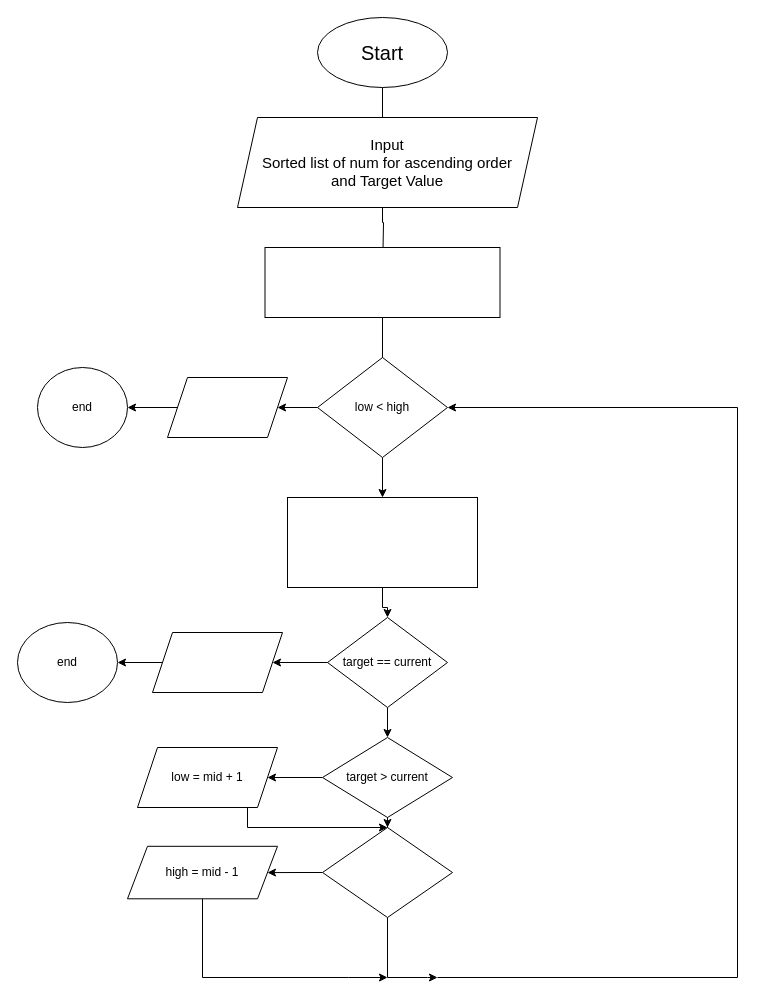
Some shapes in this 763 by 1003 pixel diagram are drawn without their labels. Here are the shapes that lost their labels. From the top down, the box of each, then its label:
(264, 246, 500, 318): low = 0, high = len(sortedList) - 1
(166, 376, 288, 438): output -1
(286, 496, 478, 588): mid = (low + high) // 2 current = list[mid]
(152, 632, 282, 692): output mid
(322, 826, 452, 918): target < current
